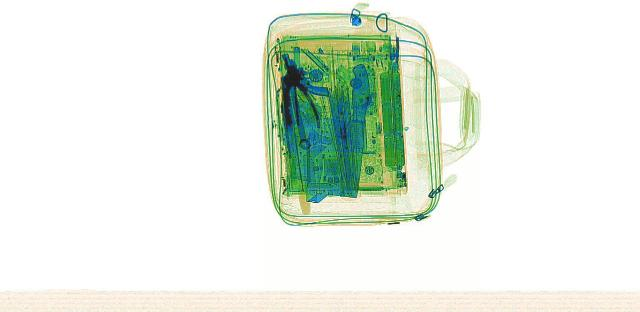Gun: (278, 51, 330, 96)
Knife: (338, 63, 369, 198)
Pliers: (268, 59, 322, 128)
